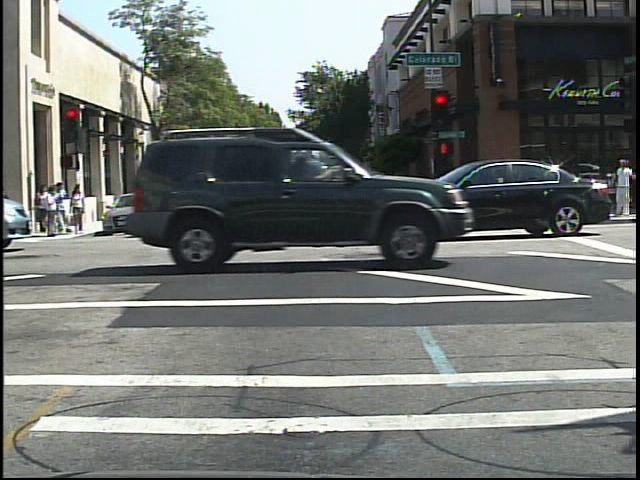person: (614, 156, 637, 219), (164, 181, 183, 221)
